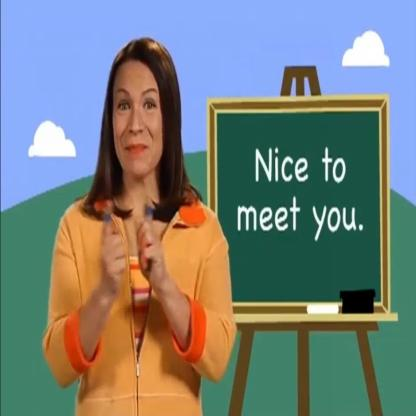NiceToMeetYou: (74, 164, 195, 320)
